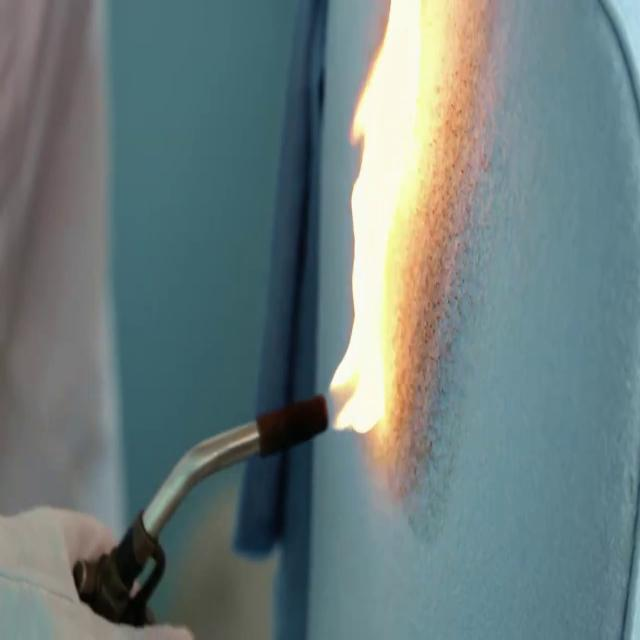Fire: (332, 4, 441, 439)
